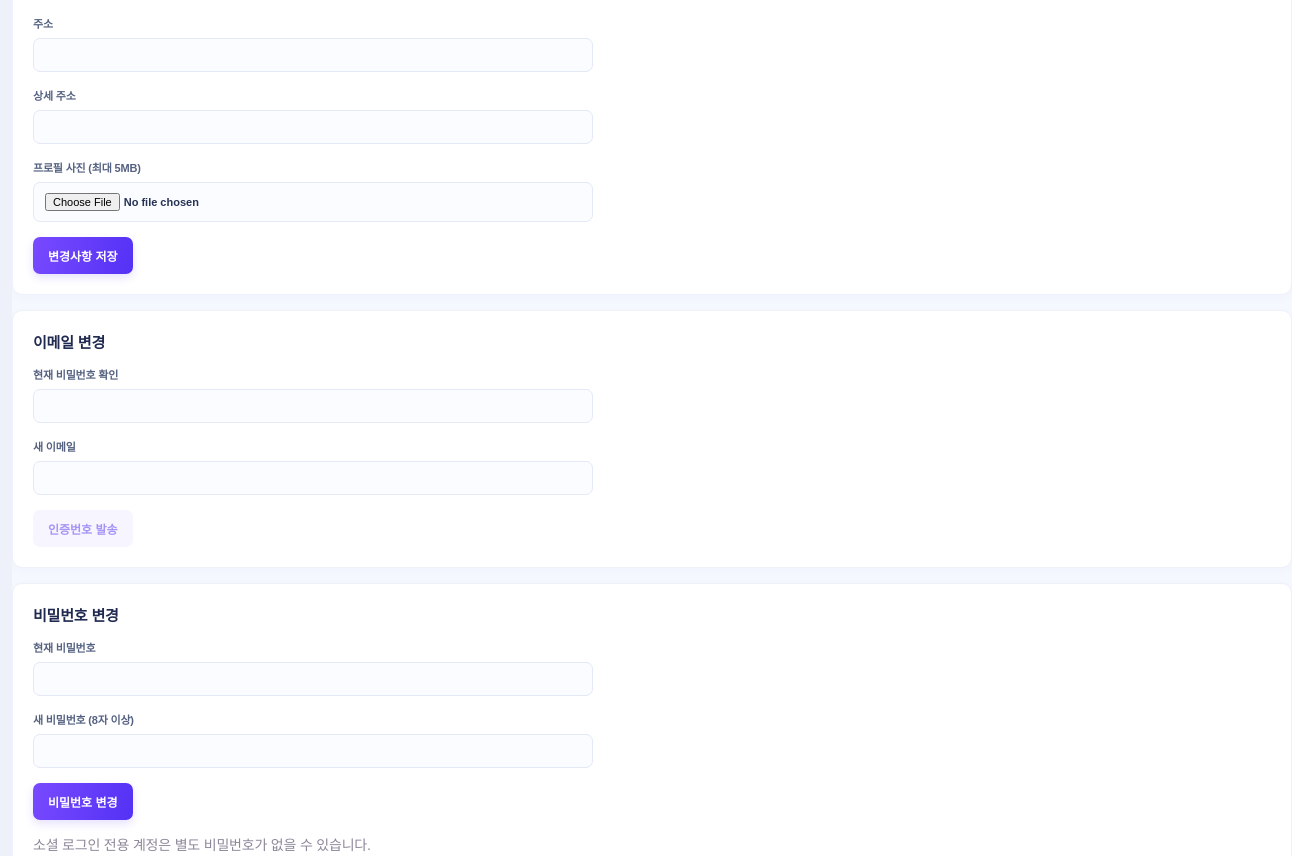
it: verifies the new email before replacing the profile email
This screenshot has width=1292, height=856.
(page scrolled)
Expected: the heading "이메일 변경" is shown, left=33, top=334, right=105, bottom=351
Step 1. Type "Password123" into the password field labelled "현재 비밀번호 확인" → (313, 406), box left=33, top=389, right=593, bottom=423
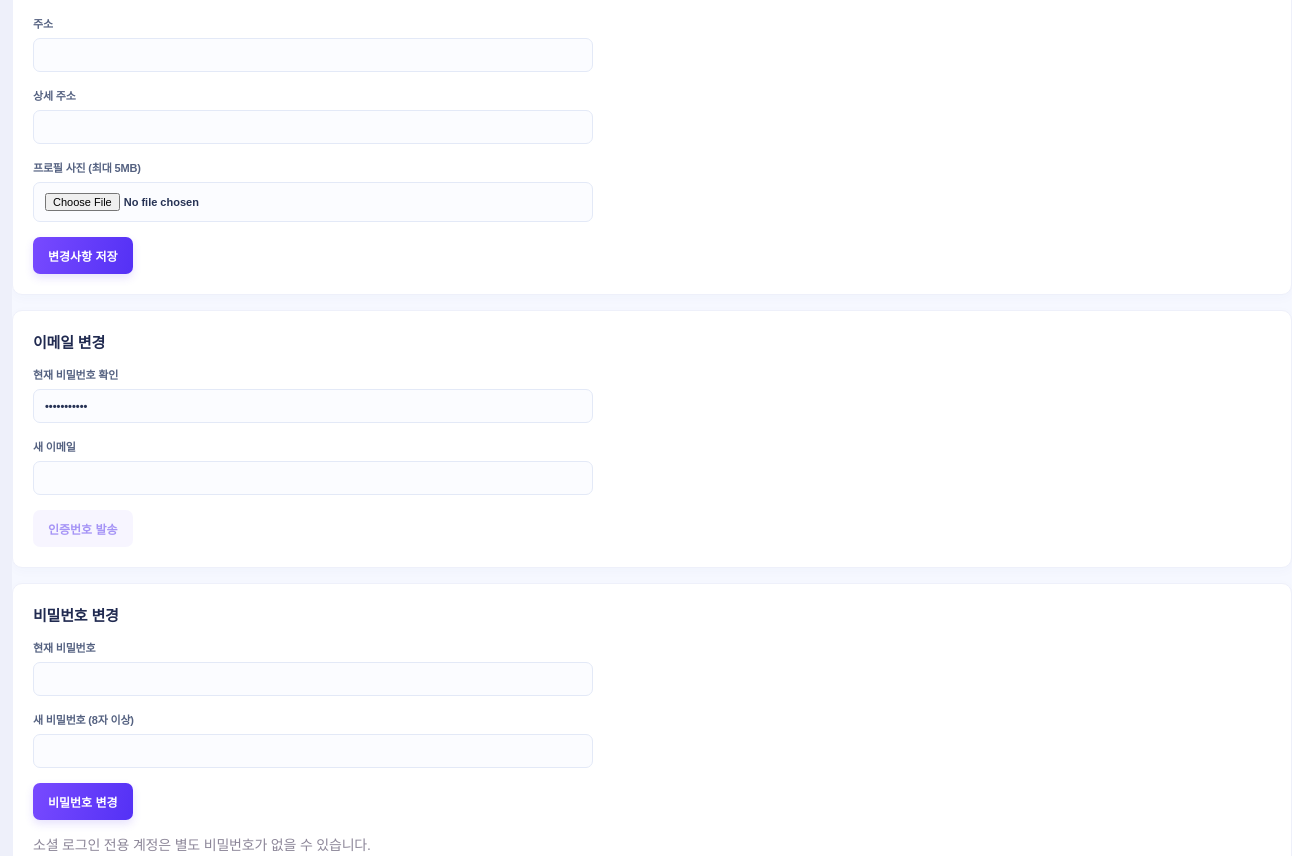
Step 2. Type "new@example.test" into the field labelled "새 이메일" → (313, 478), box left=33, top=461, right=593, bottom=495
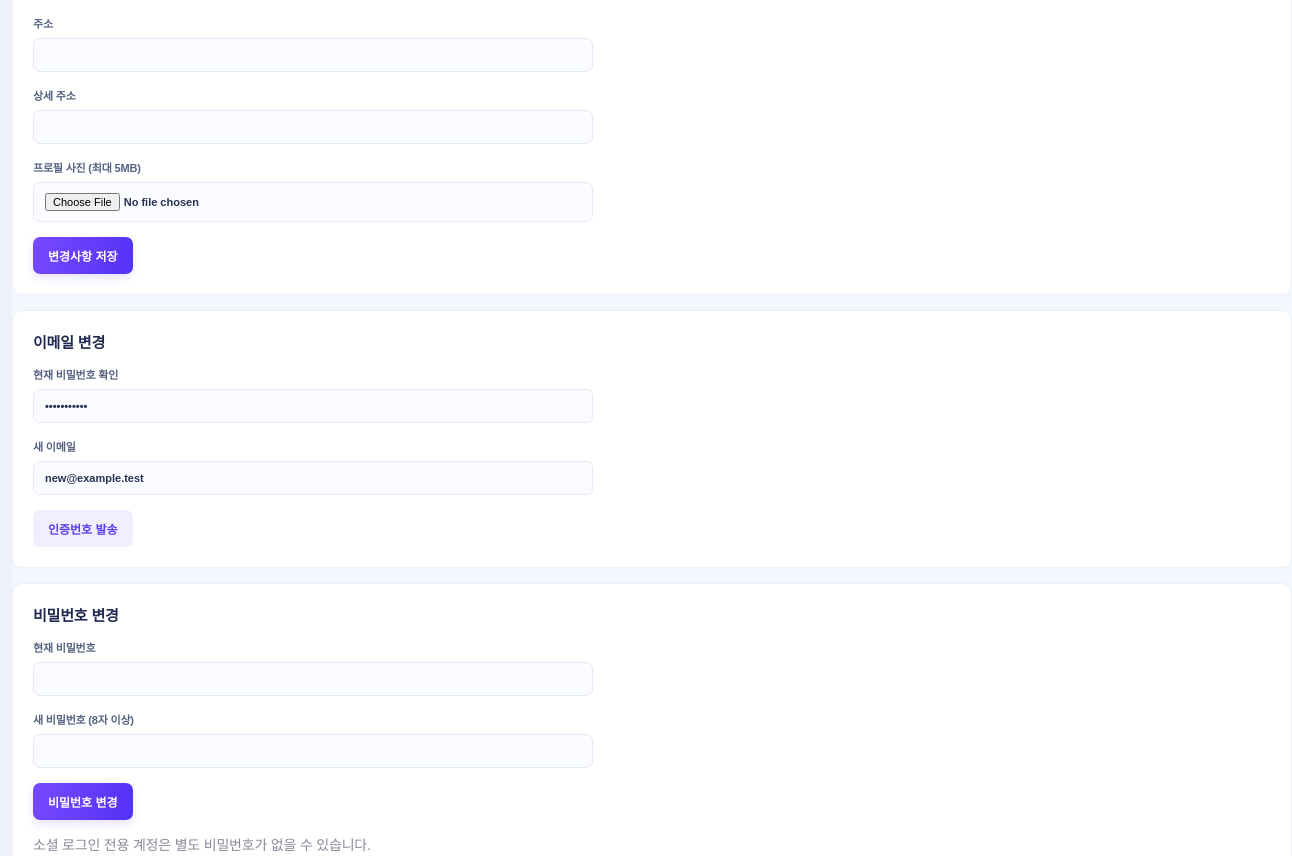
Step 3. Click the button "인증번호 발송" → (83, 529), box left=33, top=510, right=133, bottom=547
(page scrolled)
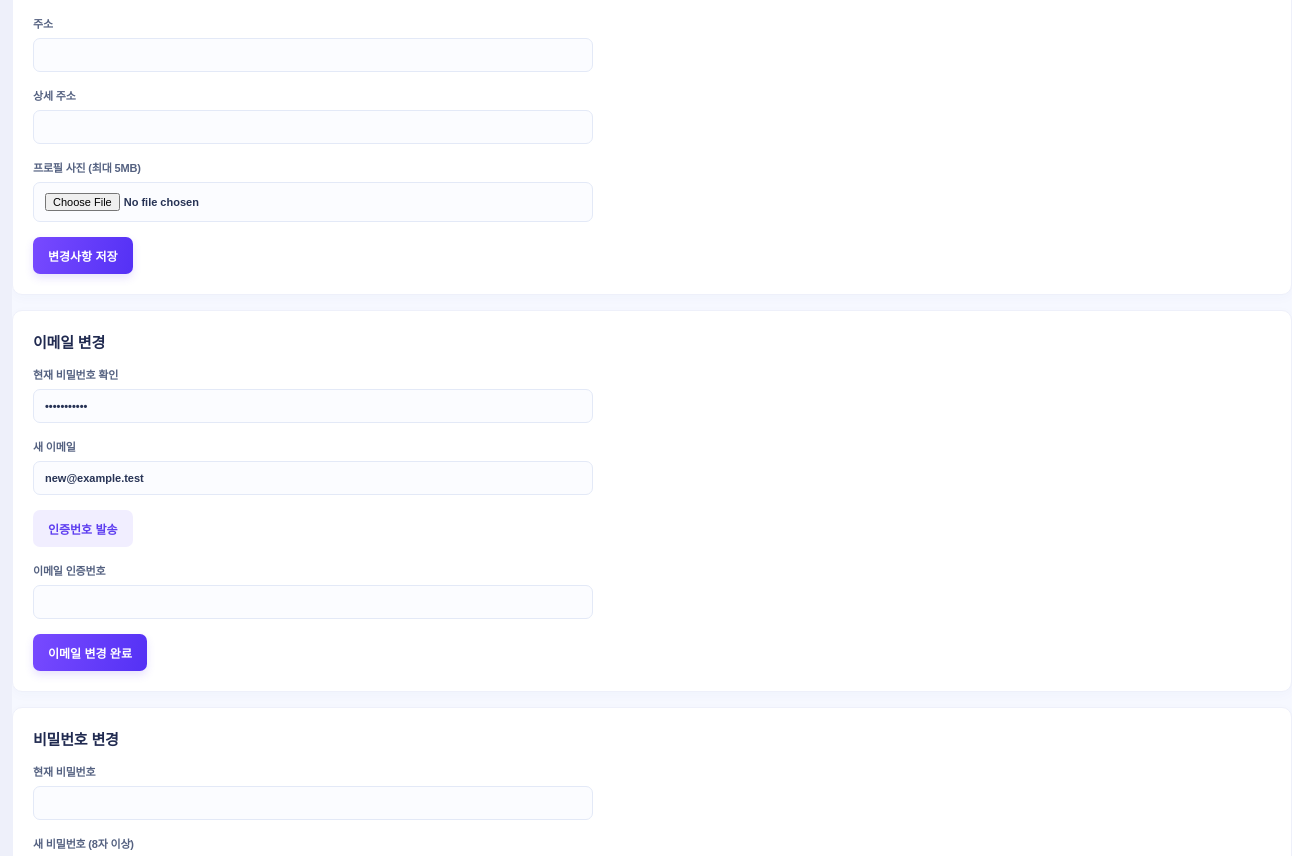
Step 4. Type "123456" into the field labelled "이메일 인증번호" → (313, 602), box left=33, top=585, right=593, bottom=619
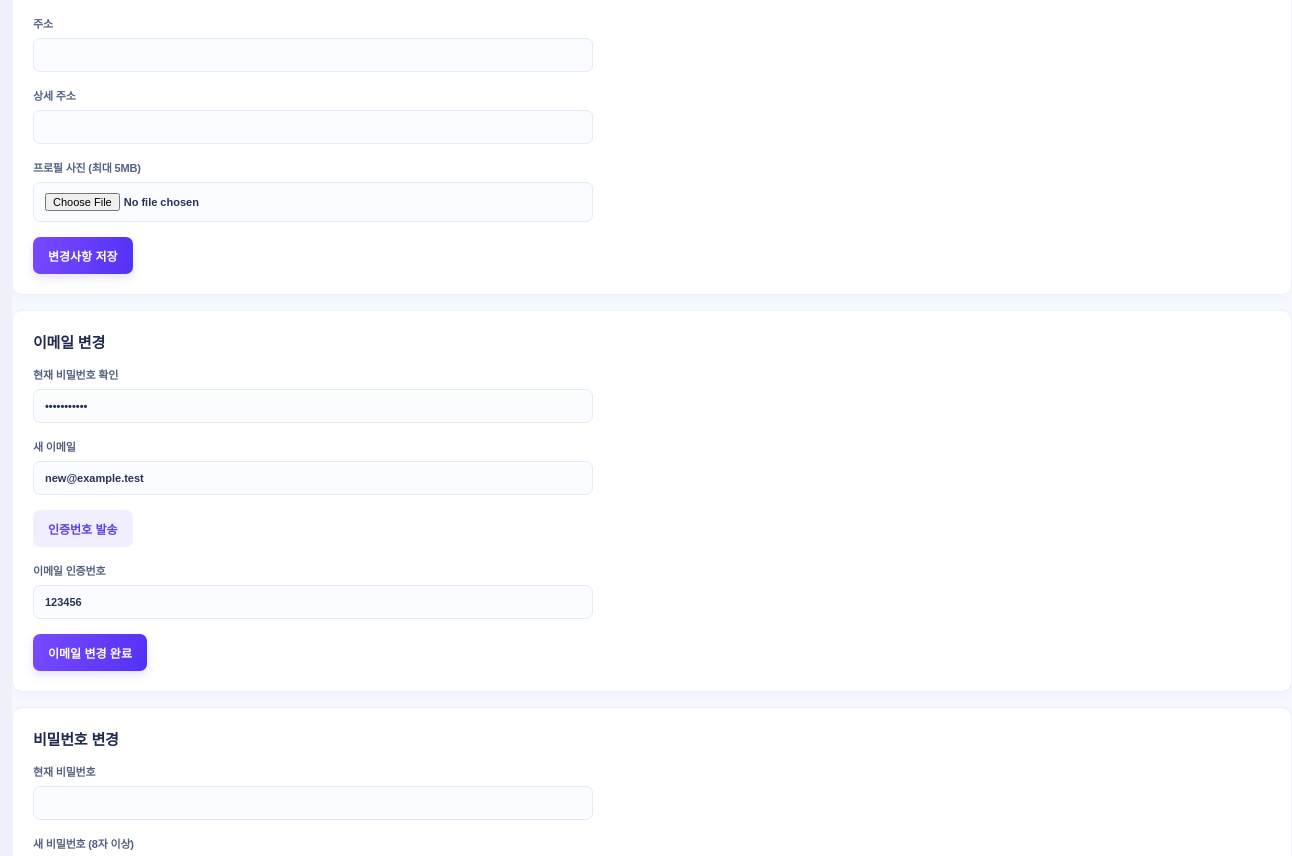
Step 5. Click the button "이메일 변경 완료" → (90, 653), box left=33, top=634, right=147, bottom=671
(page scrolled)
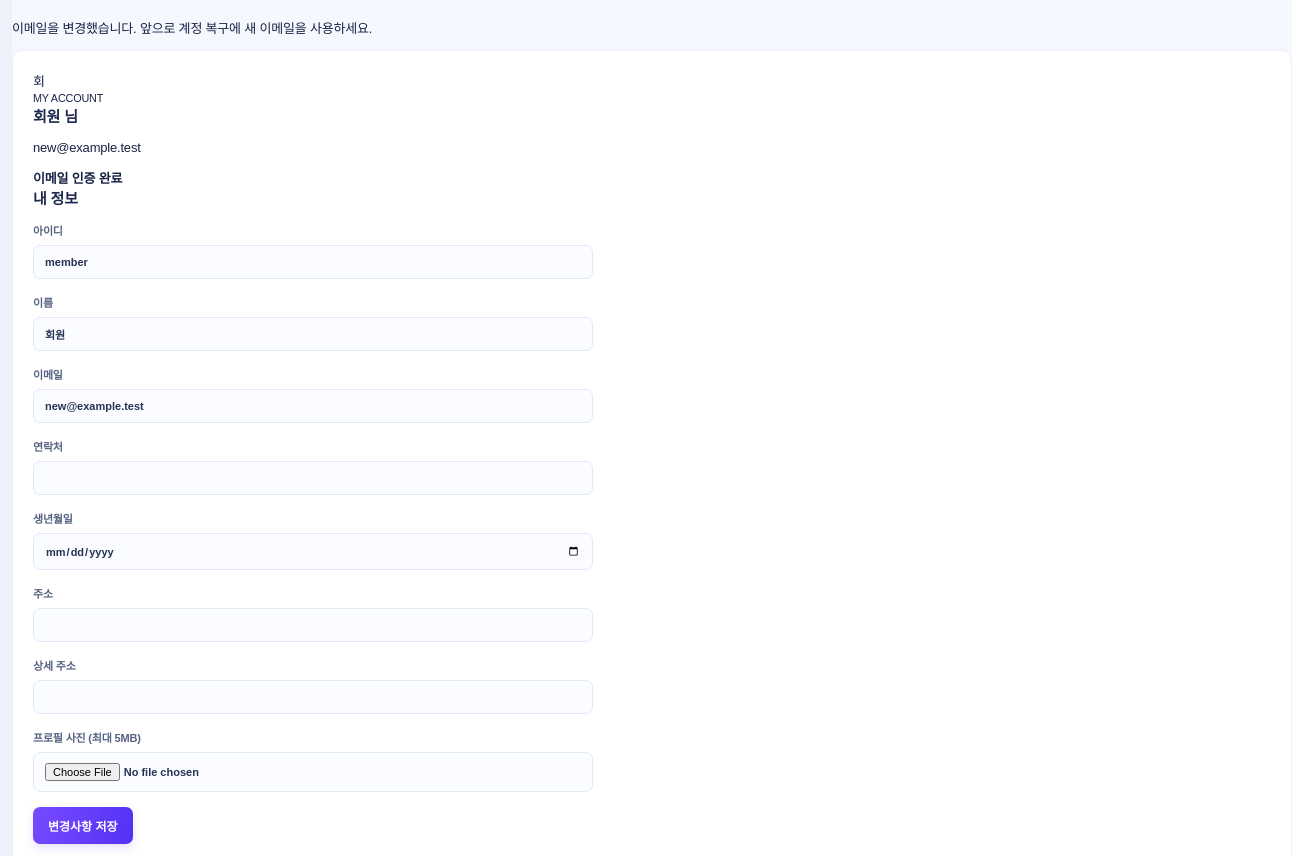
Expected: the text "이메일을 변경했습니다. 앞으로 계정 복구에 새 이메일을 사용하세요." is shown, left=12, top=21, right=372, bottom=36
Expected: the field labelled "이메일" holds "new@example.test", left=33, top=389, right=593, bottom=423
